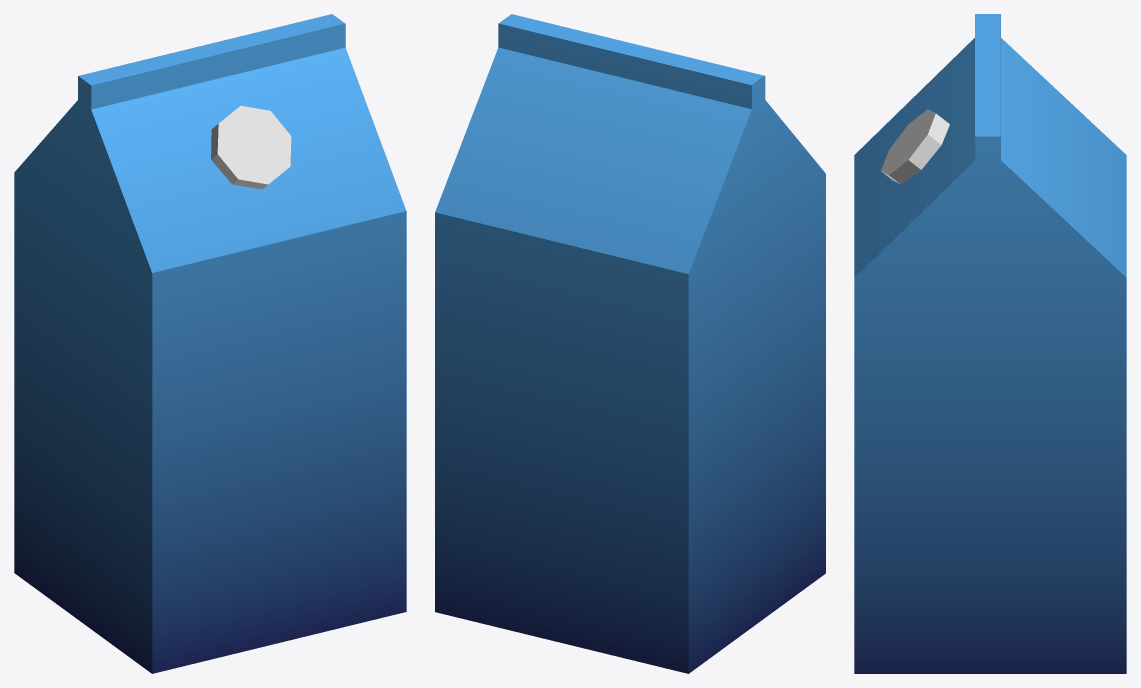
File: Milk.glb
3 views of the same model, side by side, from view 1: azimuth 30°, elevation 25°; view 2: azimuth 150°, elevation 25°; view 3: azimuth 270°, elevation 25° (orthographic).
Parts seen in each view (by area): view 1: Cube, Cylinder; view 2: Cube; view 3: Cube, Cylinder.
Boxes of the visible parts, bbox=[...] form: Cube: bbox=[14, 14, 406, 673]; Cylinder: bbox=[211, 105, 291, 189]; Cube: bbox=[435, 14, 825, 673]; Cube: bbox=[854, 14, 1126, 673]; Cylinder: bbox=[881, 109, 949, 184].
Size of the model in its own units: 1.51 by 3.08 by 1.42.
Materials: 2 (2 with a texture image).
